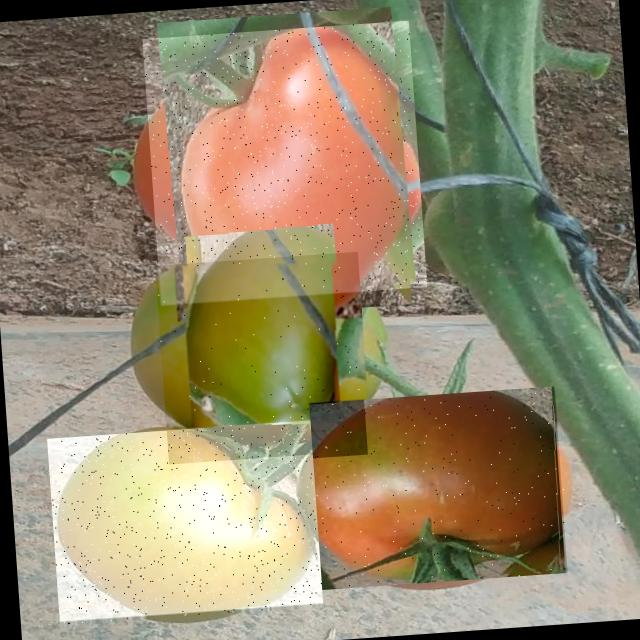Ripe Tomato: (142, 20, 427, 305)
Unripe Tomato: (47, 420, 323, 624), (310, 386, 570, 590), (154, 251, 372, 468)
